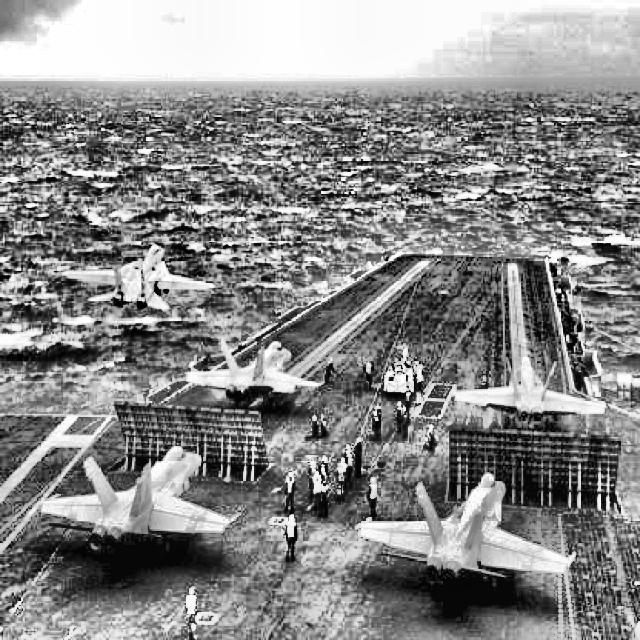F14: (60, 244, 214, 311)
F18: (355, 473, 576, 587), (41, 447, 241, 551), (452, 354, 608, 432), (185, 338, 326, 408)
